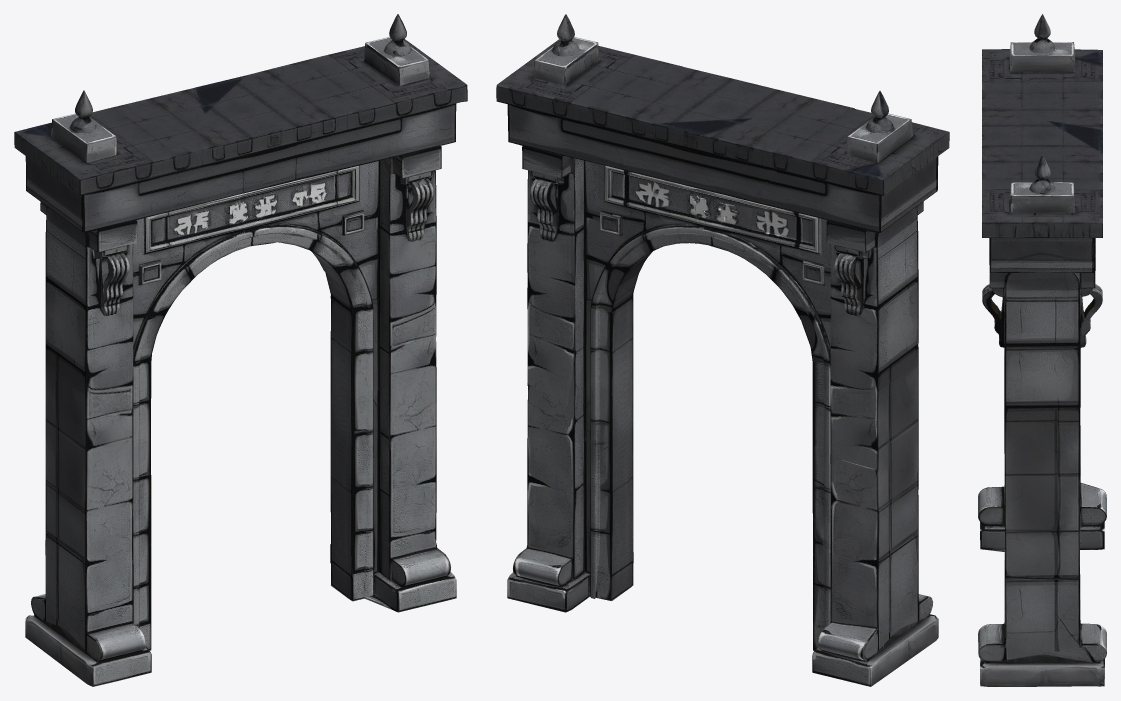
Rendered from shanmen.glb.
3 views of the same model, side by side, from view 1: azimuth 30°, elevation 25°; view 2: azimuth 150°, elevation 25°; view 3: azimuth 270°, elevation 25° (orthographic). The views are drawn at different scales.
Bounding box in the file's own units: 1.36 × 1.9 × 0.4267.
1 material, 1 textured.
